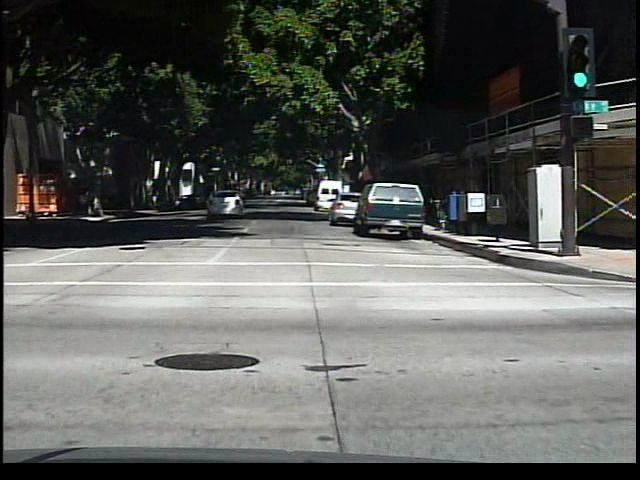person: (77, 182, 93, 217)
